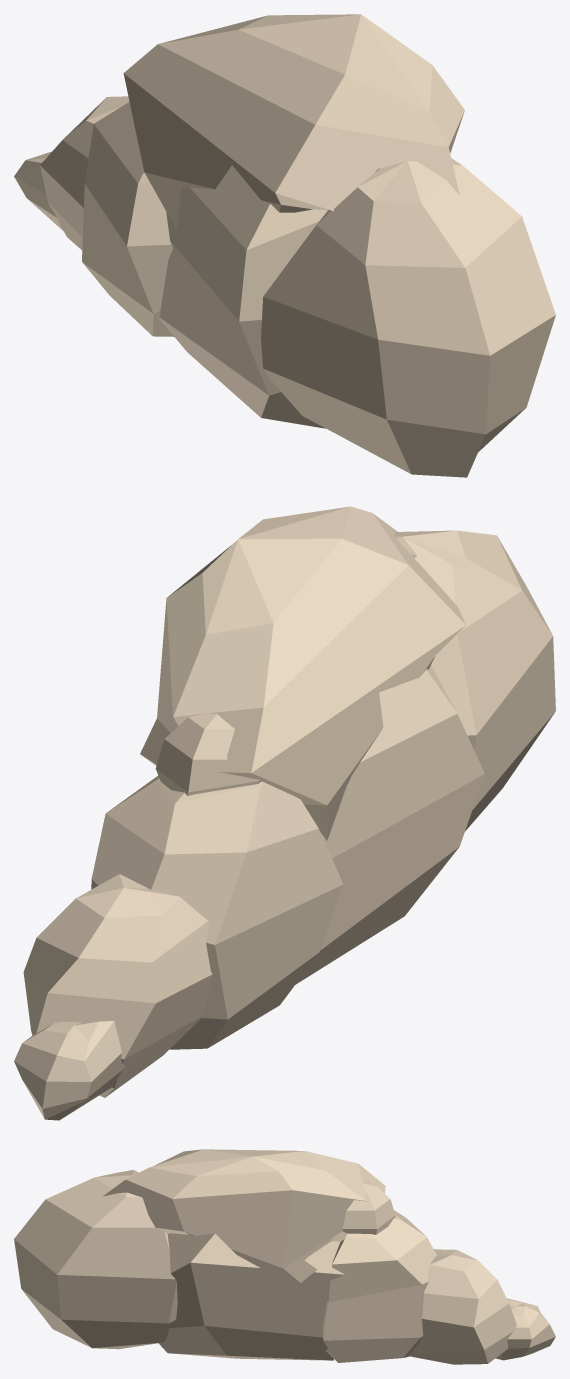
The model's file is Cloud3.fbx.
3 renders of one model, top to bottom at view 1: azimuth 30°, elevation 25°; view 2: azimuth 150°, elevation 25°; view 3: azimuth 270°, elevation 25°, orthographic. The views are drawn at different scales.
Visible parts, largest first — view 1: Cloud3; view 2: Cloud3; view 3: Cloud3.
Part boxes in pixels (bbox=[...]): Cloud3: bbox=[14, 14, 555, 477]; Cloud3: bbox=[14, 506, 555, 1120]; Cloud3: bbox=[14, 1149, 555, 1364].
Size of the model in its own units: 155 by 235 by 518.
